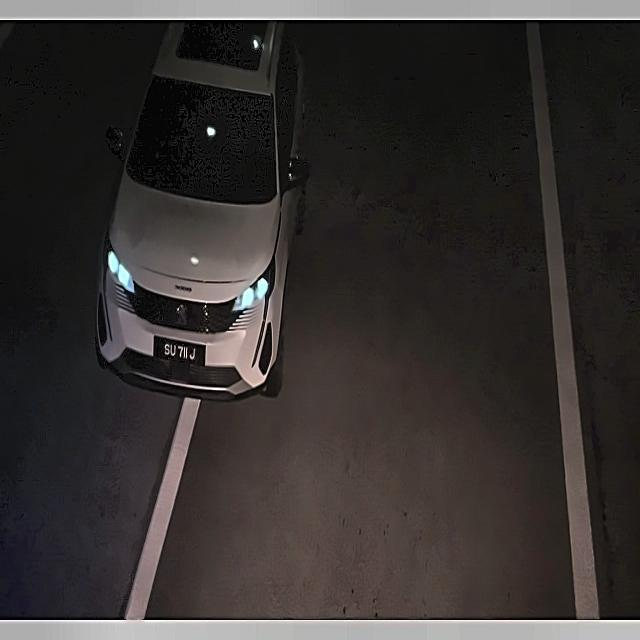car: (146, 328, 212, 370)
